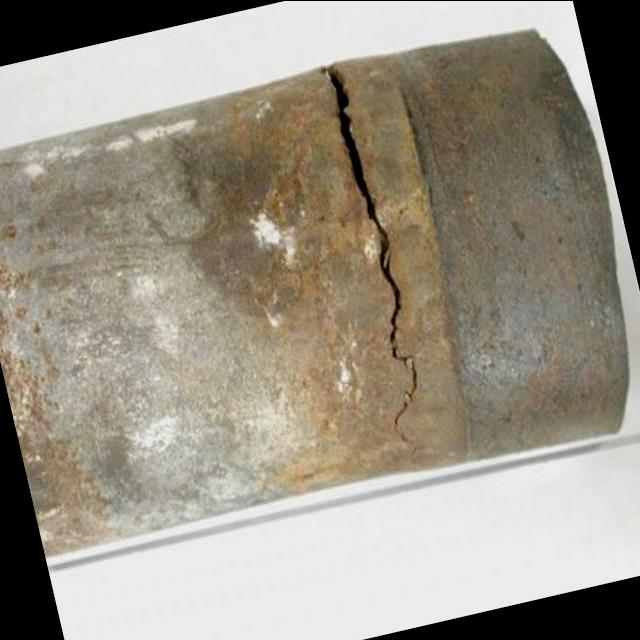defect: (321, 59, 426, 445)
